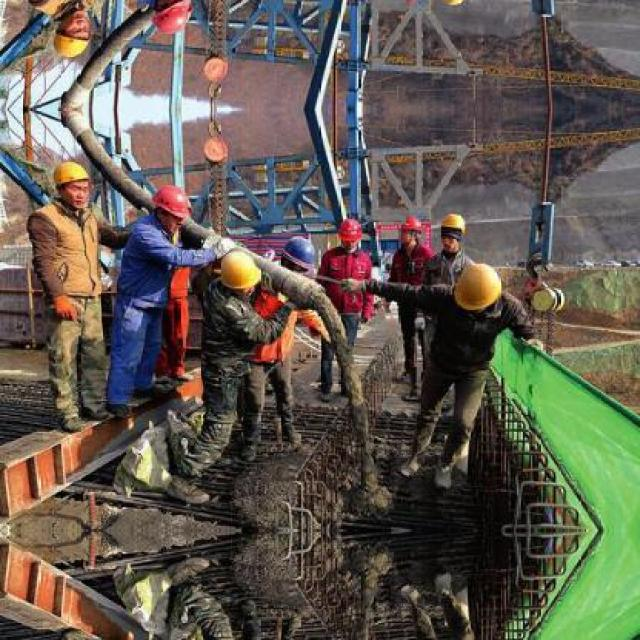helmet: (447, 263, 504, 318), (210, 249, 264, 295), (147, 183, 191, 232), (51, 158, 94, 207), (51, 11, 94, 60), (278, 231, 322, 276), (146, 0, 192, 37), (435, 210, 467, 257), (394, 213, 424, 245), (339, 217, 363, 250), (434, 0, 468, 9), (394, 0, 426, 6)
